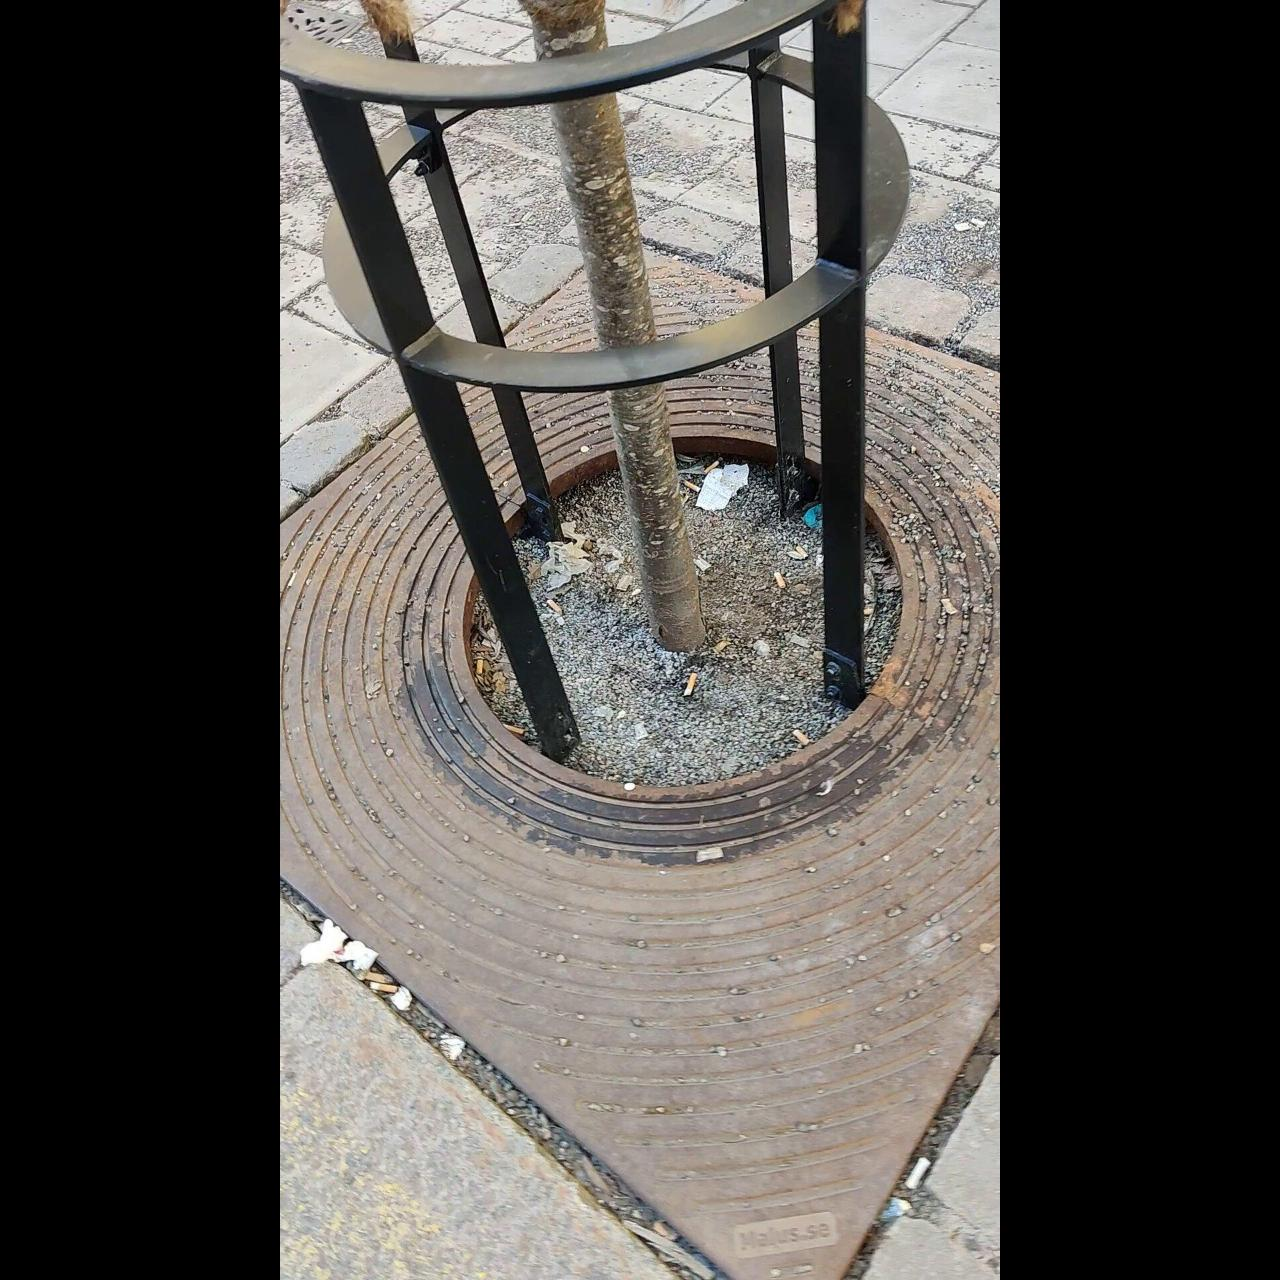cigarettes_butts: (682, 672, 696, 700), (361, 967, 389, 980), (682, 476, 700, 493), (774, 568, 787, 592), (792, 729, 813, 743), (367, 983, 399, 993), (545, 598, 561, 614), (476, 655, 486, 678), (502, 726, 526, 735), (706, 459, 719, 474), (797, 545, 809, 558)
others: (905, 1155, 930, 1191), (941, 594, 959, 614), (712, 642, 728, 656)
